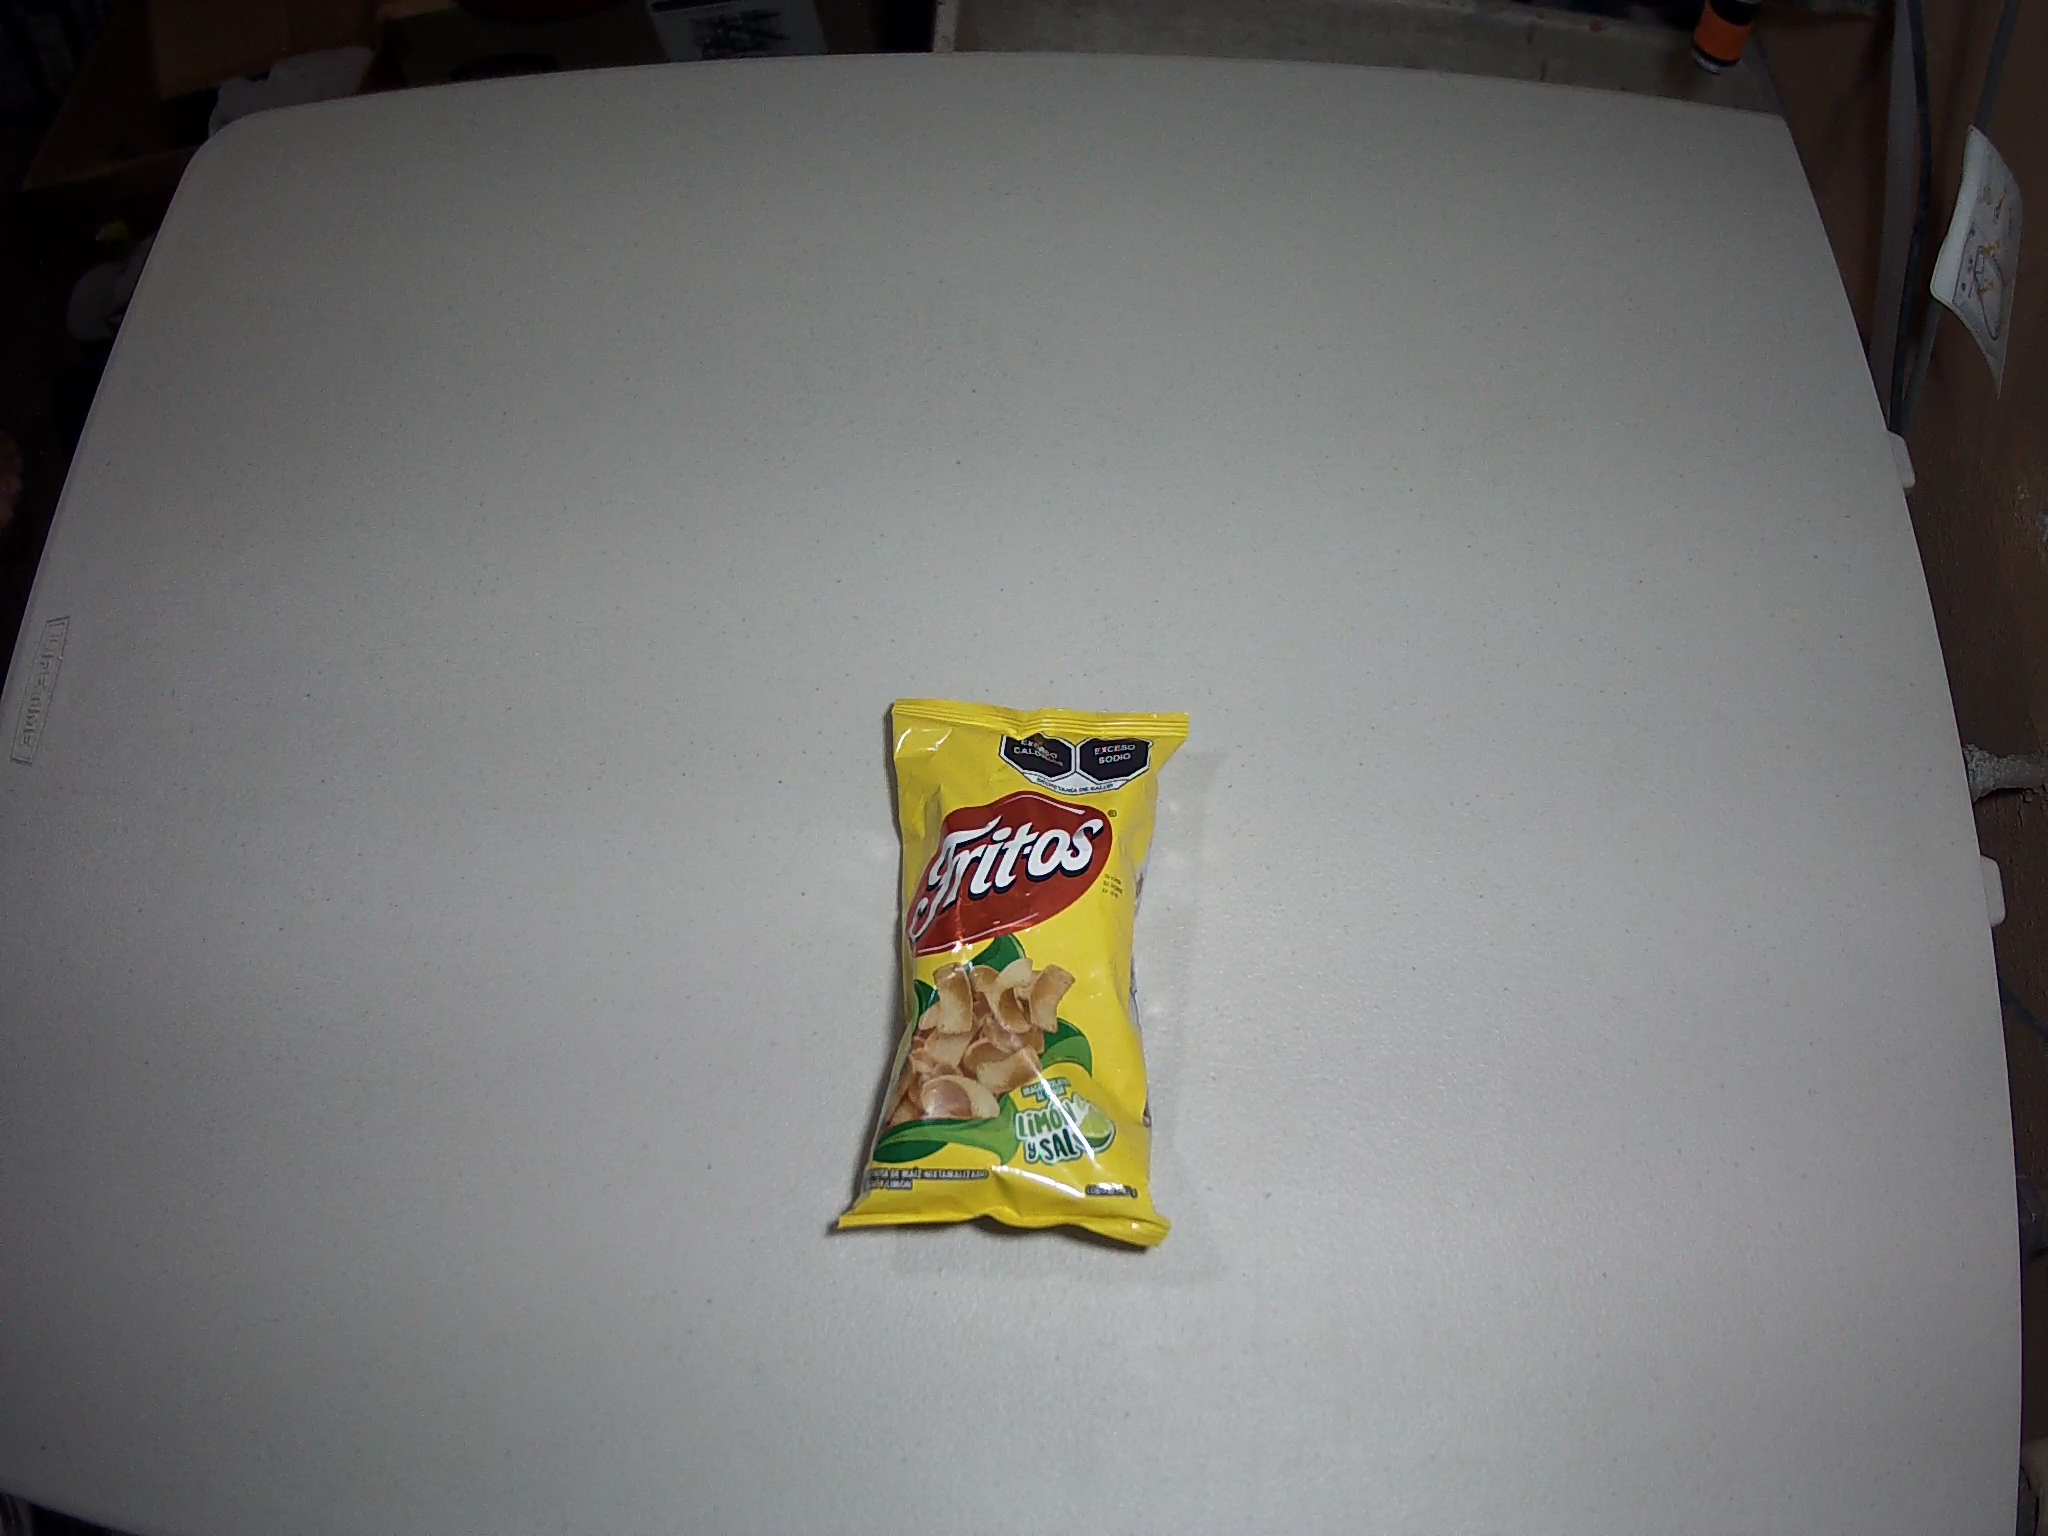FritosSalLimon_65_F: (835, 695, 1190, 1247)
